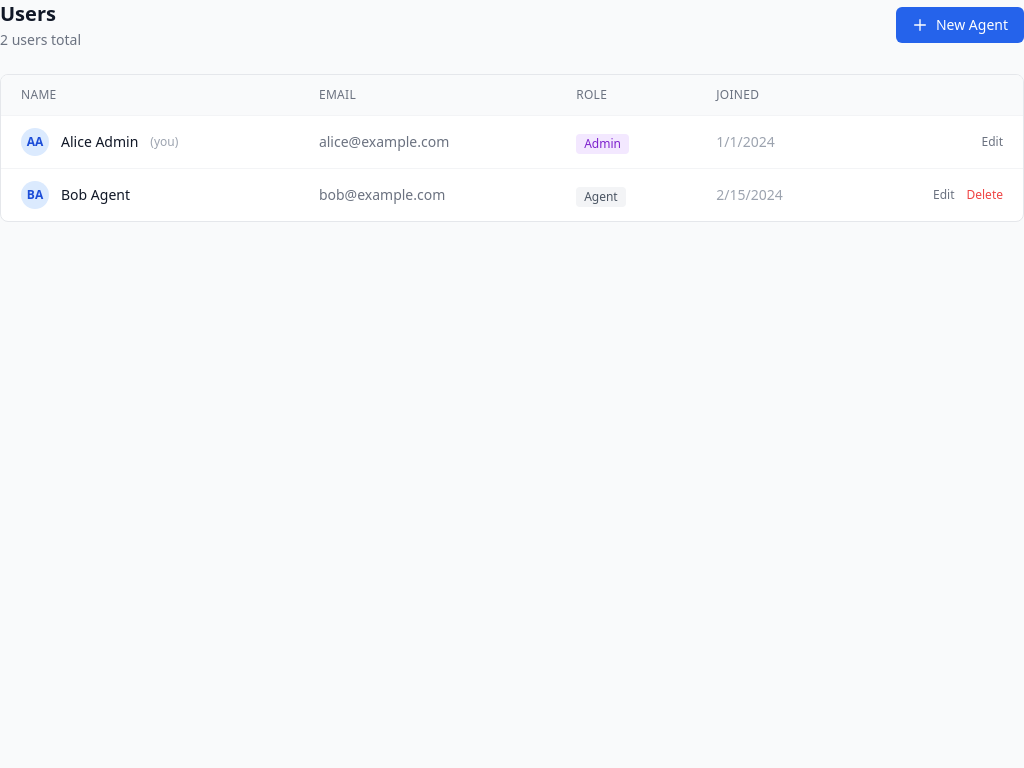
UsersPage › edit user modal › submits updated data and closes modal
The width and height of the screenshot is (1024, 768).
Expected: the text "Bob Agent" is shown, [61,185,130,205]
Click the button "Edit" in the row of "BA": [944, 195] box [933,187,954,203]
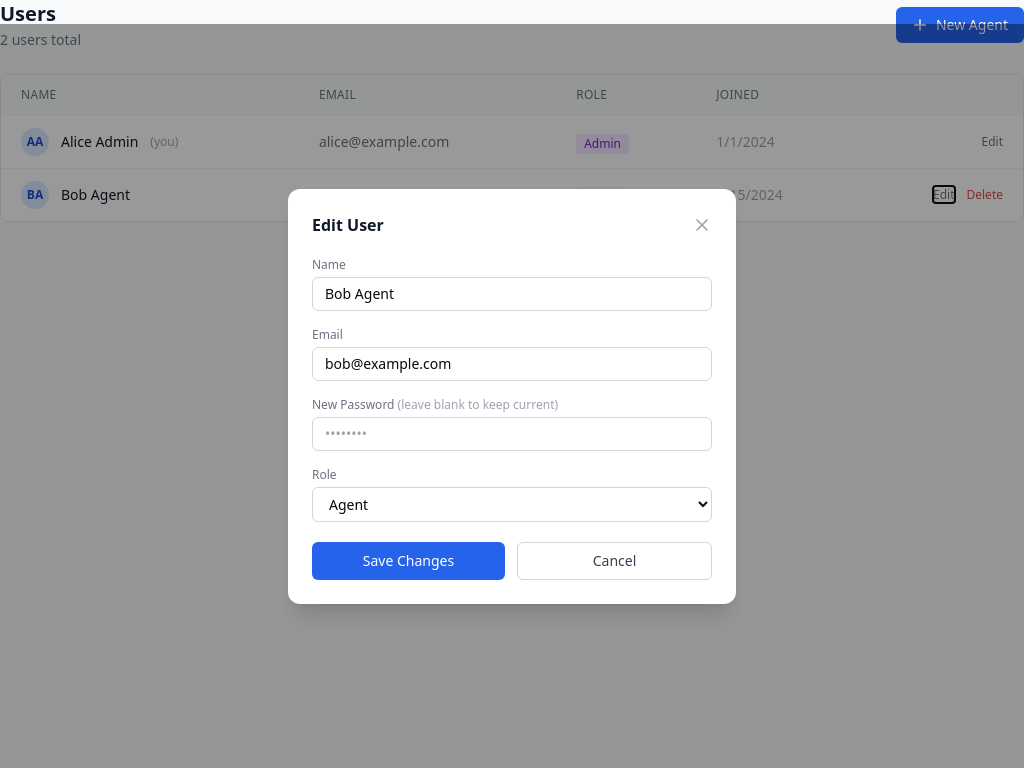
Replace the text in the 1st field showing "Bob Agent" with "Bob Updated": [512, 294] box [312,276,712,310]
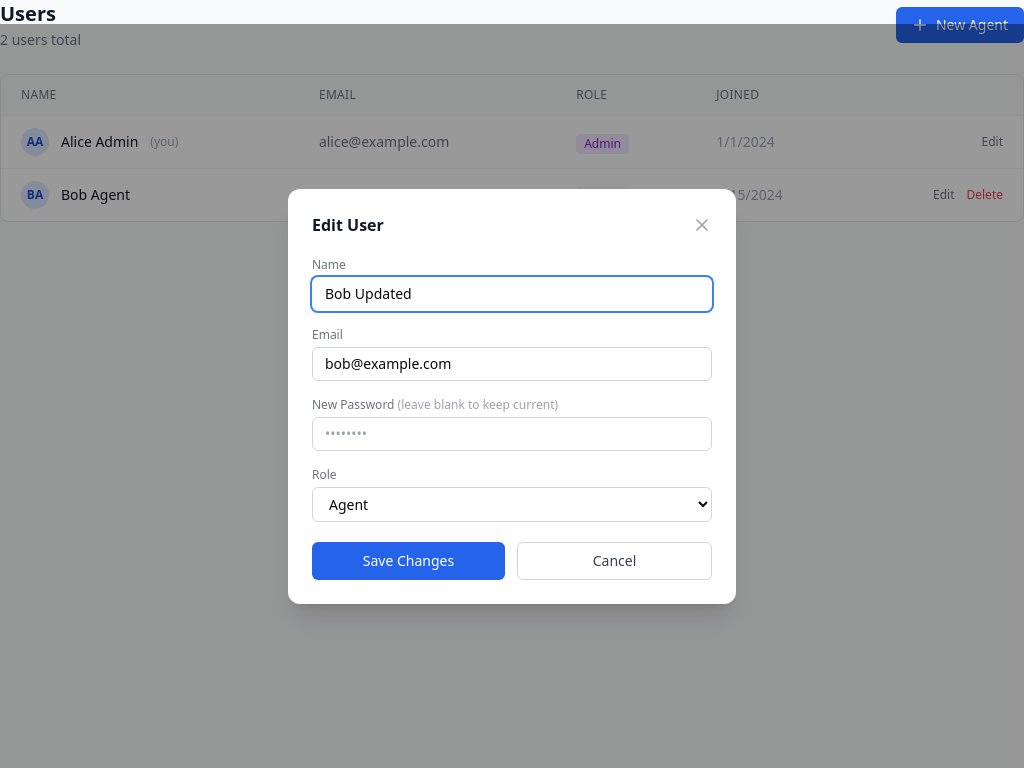
Click the button "Save Changes": [408, 560] box [312,542,505,580]
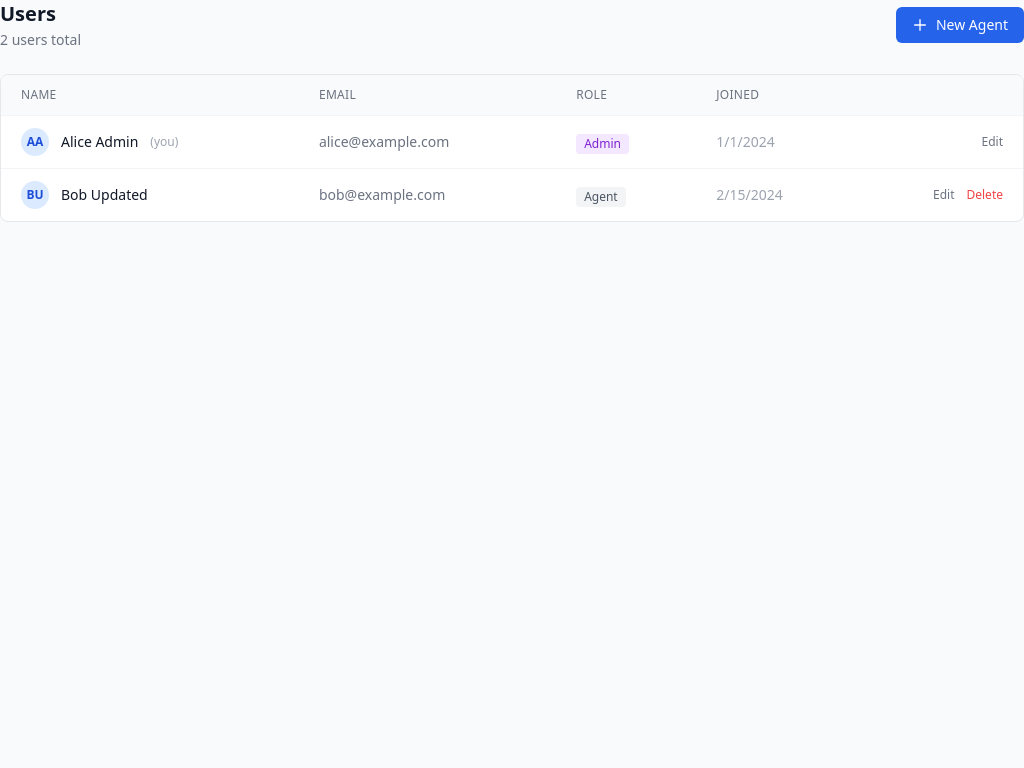
Expected: the heading "Edit User" is gone
